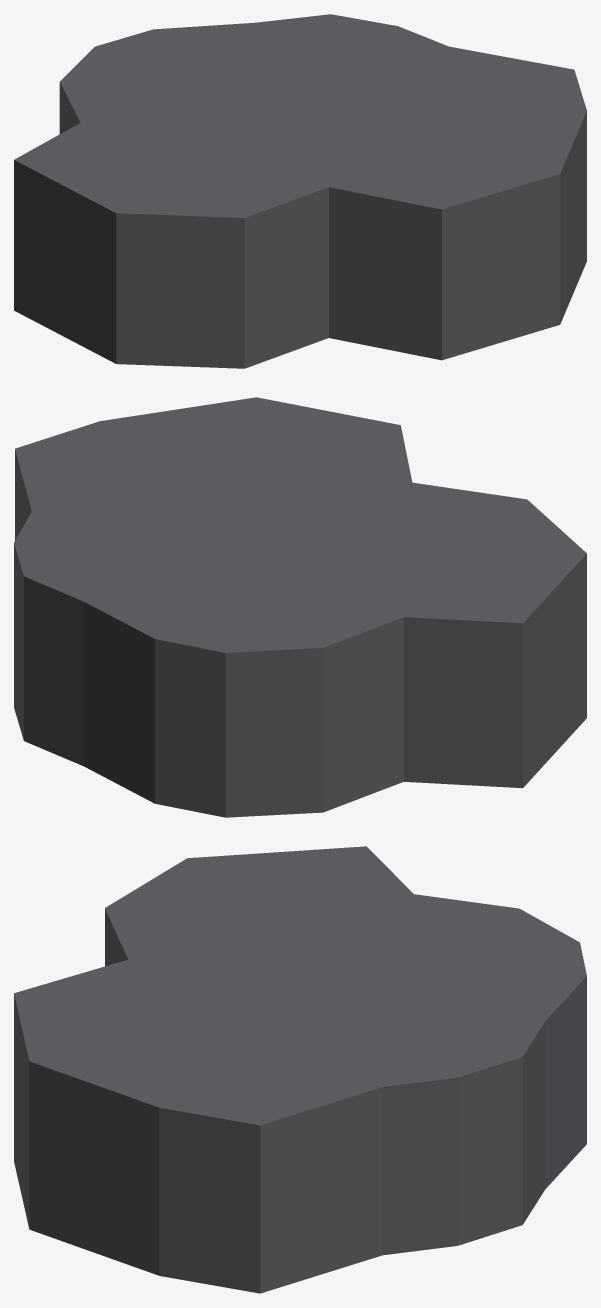
File: Flat Rock_2.fbx
3 renders of one model, top to bottom at view 1: azimuth 30°, elevation 25°; view 2: azimuth 150°, elevation 25°; view 3: azimuth 270°, elevation 25°, orthographic. The views are drawn at different scales.
Visible parts, largest first — view 1: Flat Rock_2; view 2: Flat Rock_2; view 3: Flat Rock_2.
Boxes of the visible parts, x1=… form: Flat Rock_2: x1=14, y1=14, x2=586, y2=368; Flat Rock_2: x1=14, y1=397, x2=586, y2=817; Flat Rock_2: x1=14, y1=846, x2=586, y2=1293.
Size of the model in its own units: 3.69 by 1.04 by 3.2.
